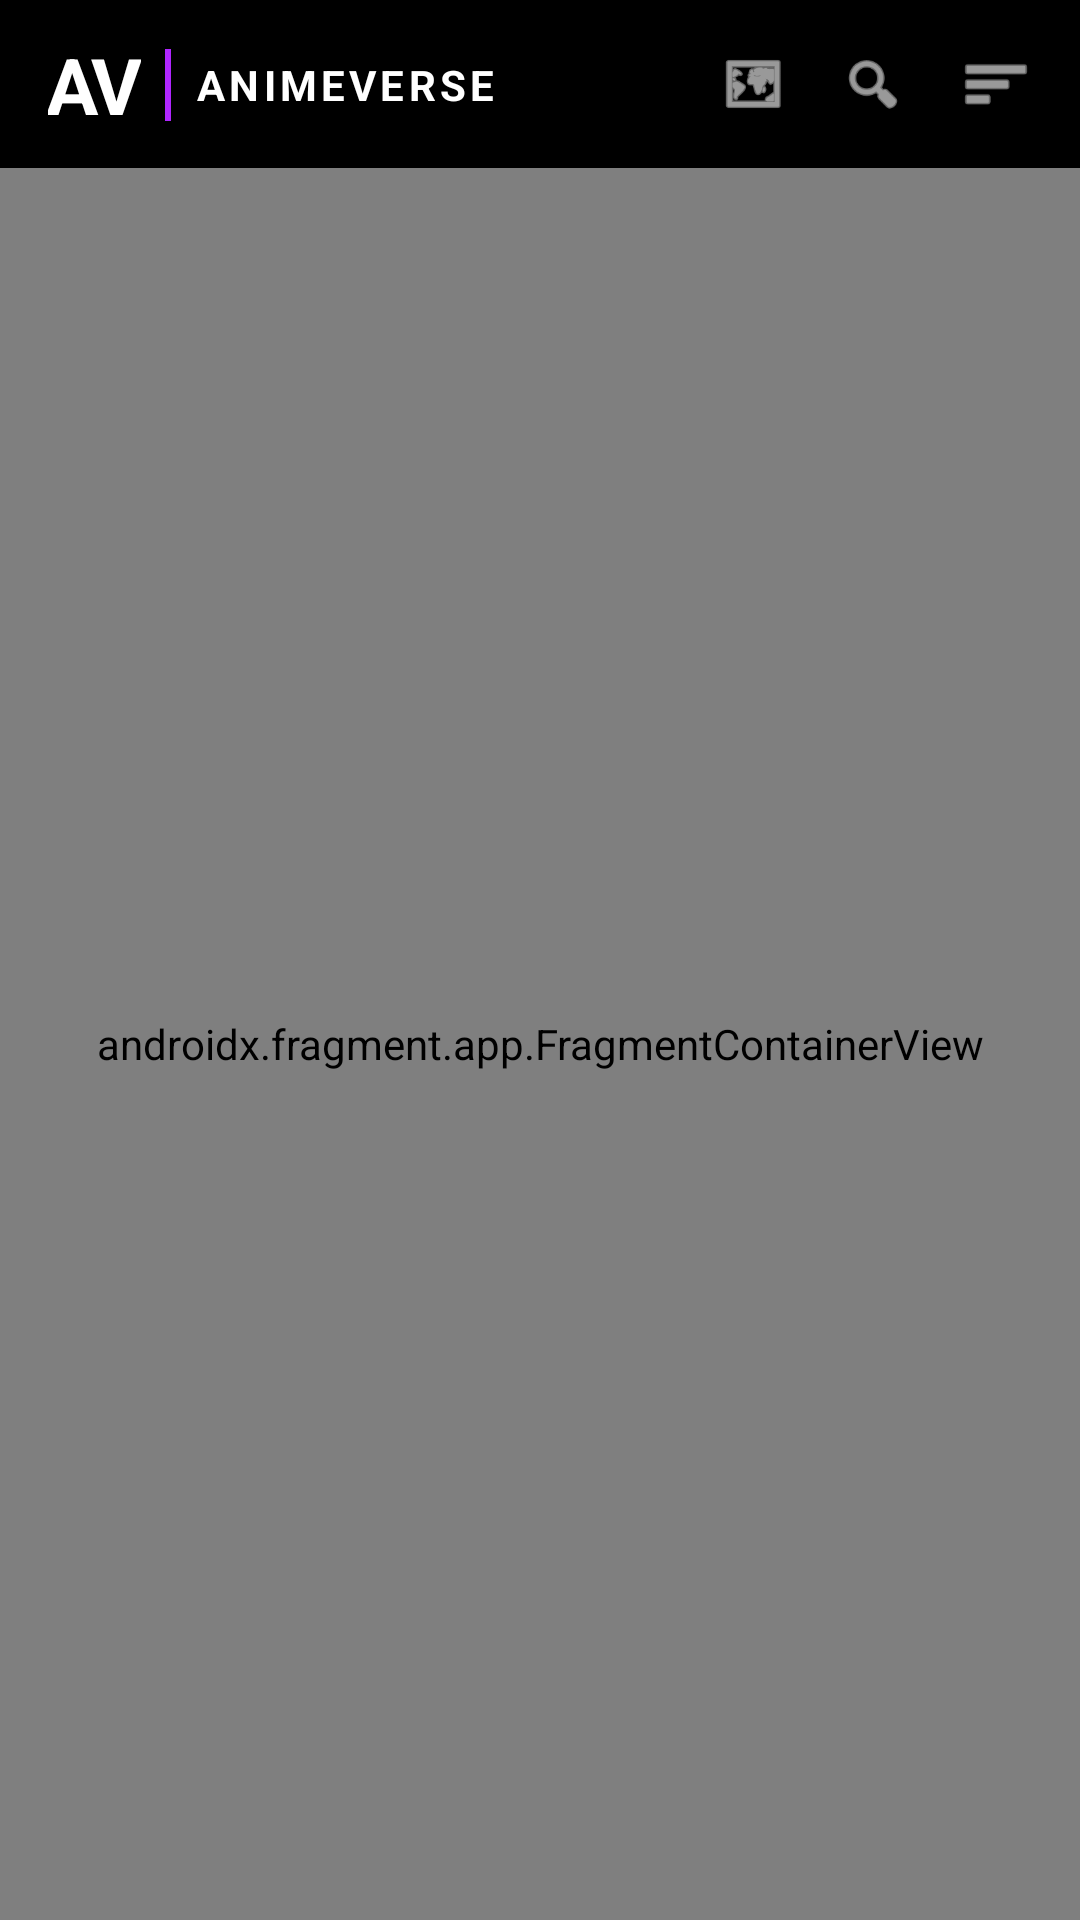

Icon bounding boxes for this 1080*1920 phone screenshot, format (x1, y1, x2, y2):
Language: (726, 60, 781, 108)
Menu: (965, 64, 1027, 105)
Search: (849, 60, 897, 109)
